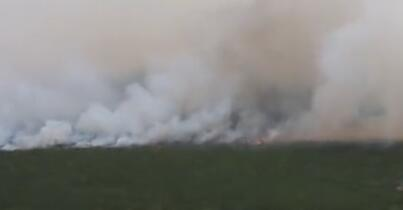yanwu: (1, 1, 403, 152)
